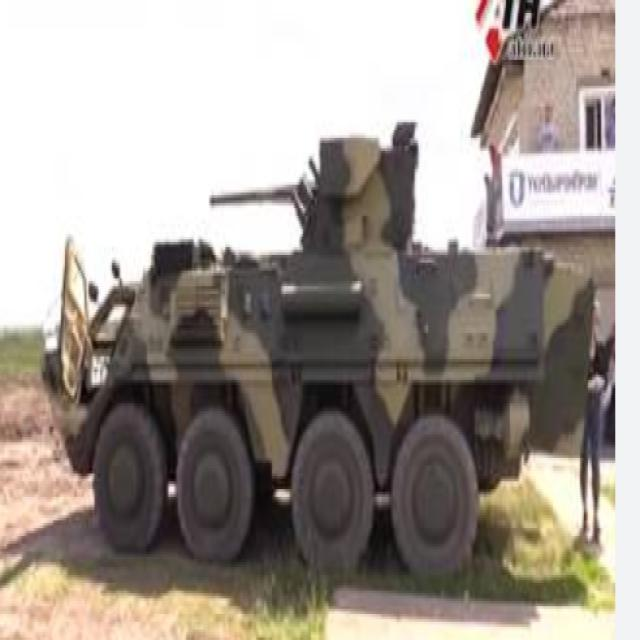MIL_APC: (32, 133, 600, 580)
